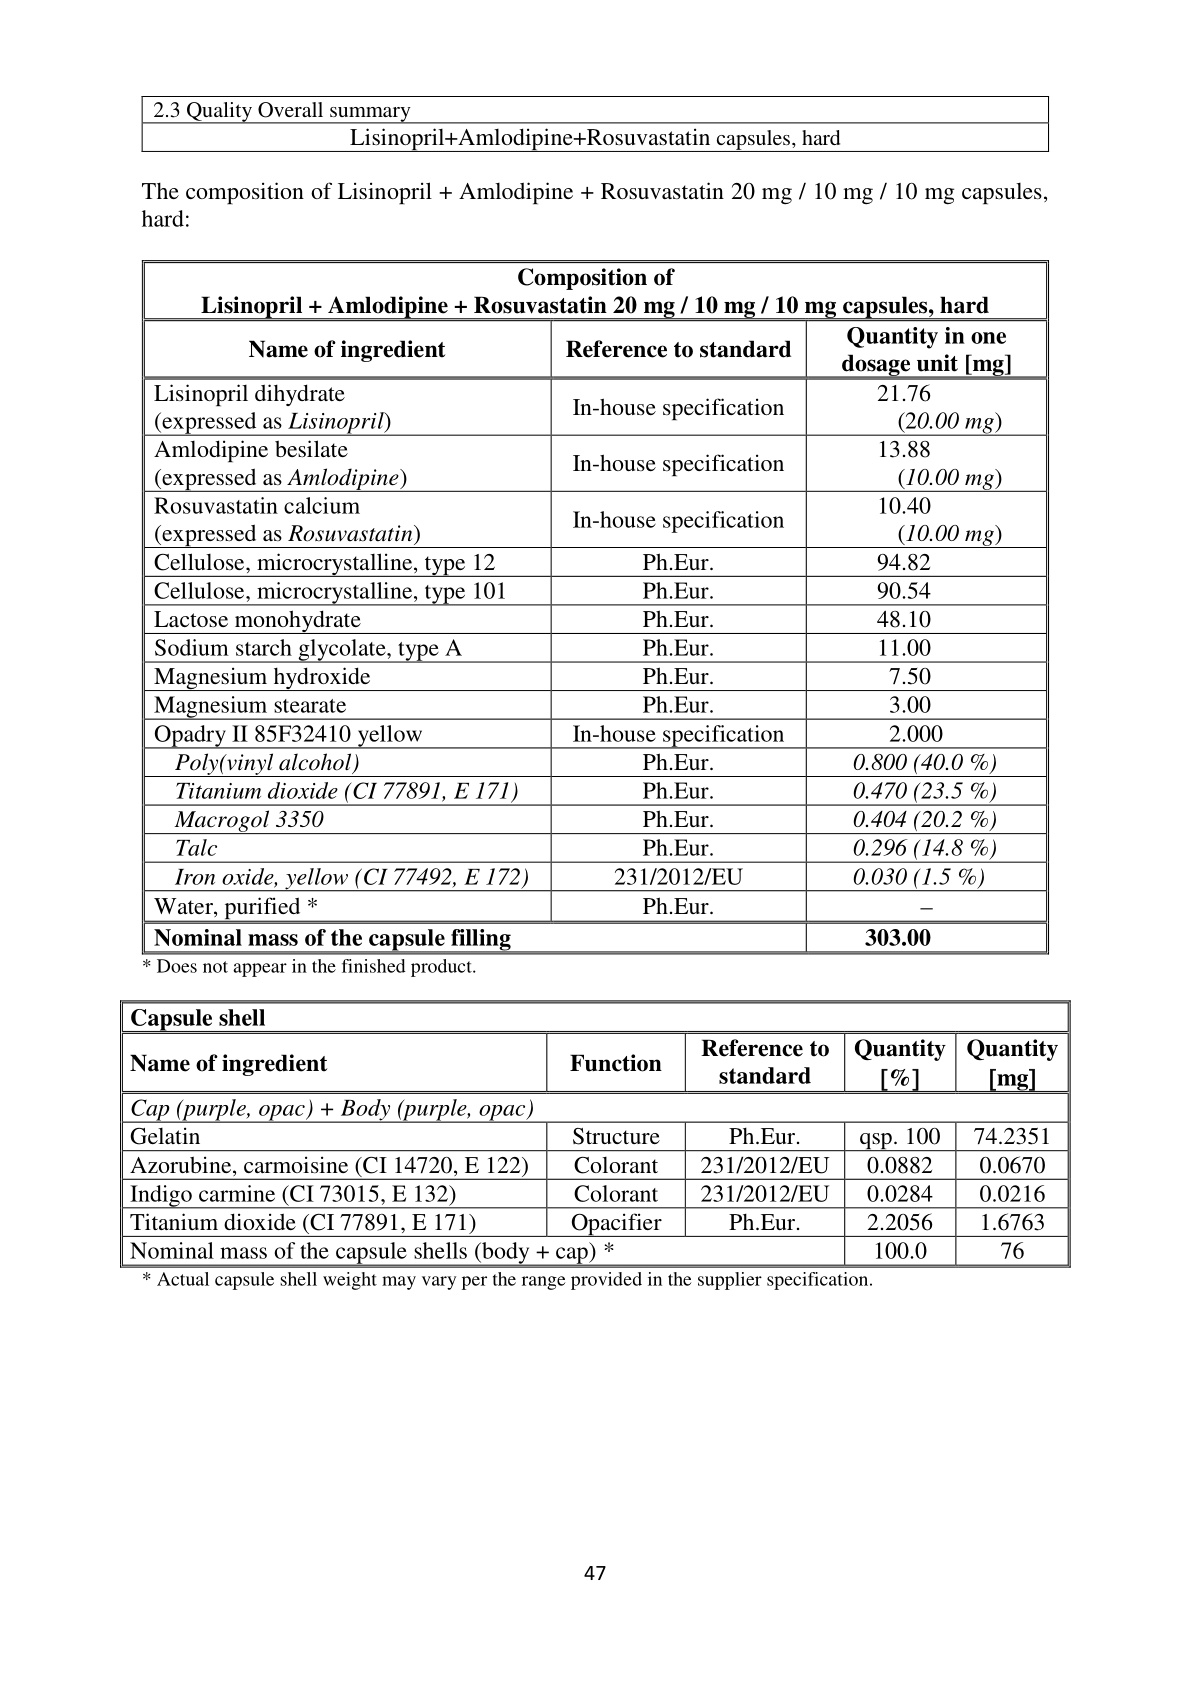full_lined: (140, 95, 1048, 153)
merged_cells: (140, 258, 1052, 956), (119, 999, 1072, 1269)
